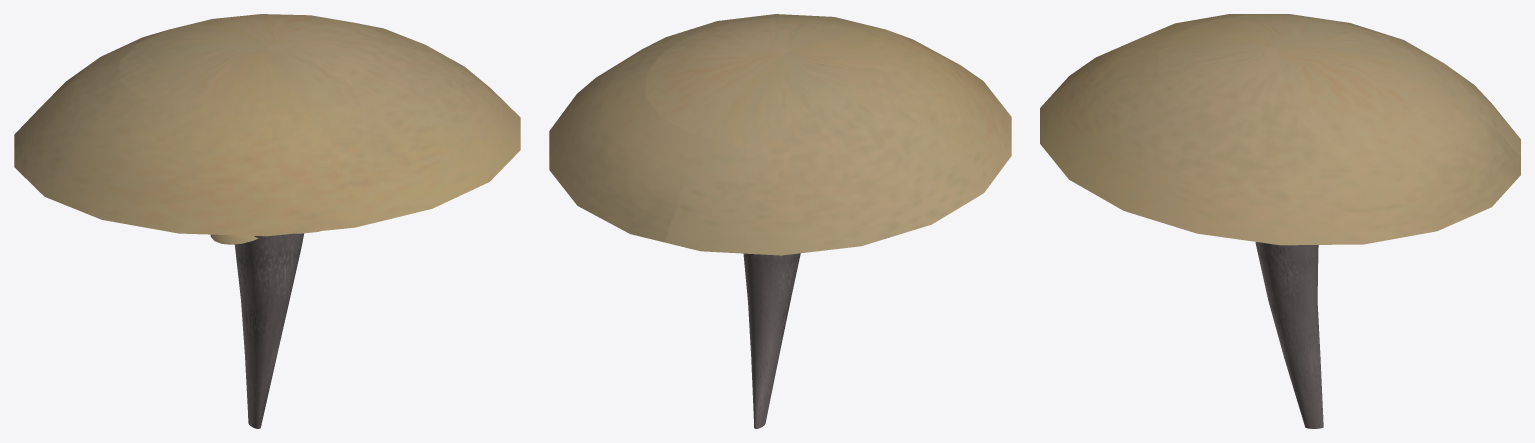
Rendered from glowshroomTextured.FBX.
3 renders of one model, left to right at view 1: azimuth 30°, elevation 25°; view 2: azimuth 150°, elevation 25°; view 3: azimuth 270°, elevation 25°, orthographic. The views are drawn at different scales.
Parts seen in each view (by area): view 1: Cap; view 2: Cap; view 3: Cap.
Part boxes in pixels (x1=…): Cap: x1=14, y1=14, x2=520, y2=428; Cap: x1=549, y1=14, x2=1011, y2=428; Cap: x1=1040, y1=14, x2=1520, y2=428.
Bounding box in the file's own units: 107 × 90.57 × 105.
